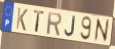9: (80, 16, 93, 42)
J: (64, 15, 77, 38)
K: (15, 7, 29, 33)
N: (94, 18, 110, 44)
R: (46, 11, 63, 37)
T: (33, 10, 45, 34)
